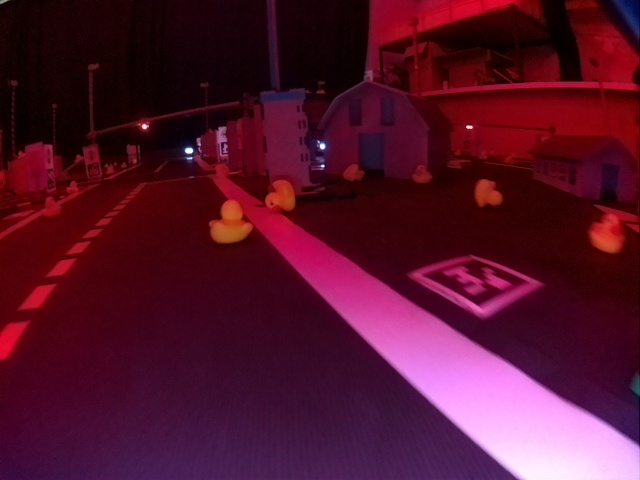Duckie: (209, 205, 252, 240), (475, 178, 501, 209), (42, 198, 62, 217)
QR code: (413, 257, 538, 316)
